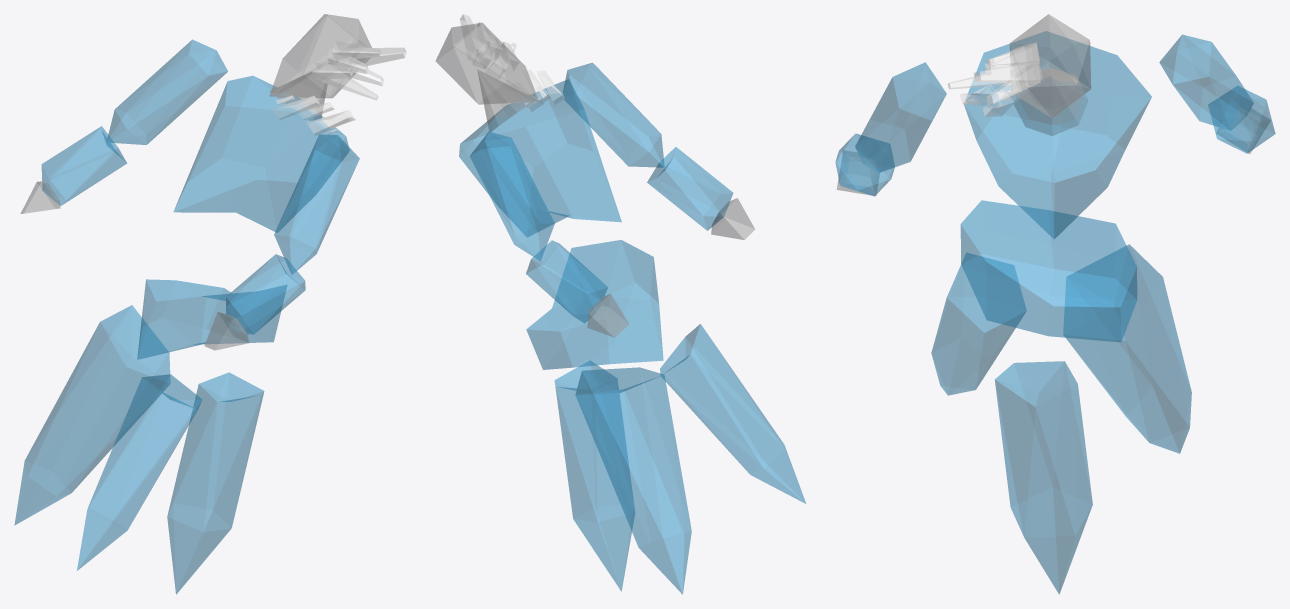
The model's file is ghostChargingLunge16.obj.
3 views of the same model, side by side, from view 1: azimuth 30°, elevation 25°; view 2: azimuth 150°, elevation 25°; view 3: azimuth 270°, elevation 25° (orthographic). The views are drawn at different scales.
Parts seen in each view (by area): view 1: Cube.001_Cube.006, Icosphere.017, Icosphere.016, Icosphere.015, Cube_Cube.006, Icosphere.007_Icosphere.005, Icosphere.005_Icosphere.005, Icosphere.003_Icosphere.006, Icosphere.006_Icosphere.005, Icosphere.008_Icosphere.005, Cone_Cone.006, Cube.002_Cube.006 (+8 smaller); view 2: Cube.001_Cube.006, Icosphere.017, Cube_Cube.006, Icosphere.016, Icosphere.015, Icosphere.005_Icosphere.005, Icosphere.007_Icosphere.005, Icosphere.003_Icosphere.006, Icosphere.006_Icosphere.005, Icosphere.008_Icosphere.005, Cone_Cone.006, Cube.002_Cube.006 (+2 smaller); view 3: Cube.001_Cube.006, Cube_Cube.006, Icosphere.017, Icosphere.016, Icosphere.015, Icosphere.003_Icosphere.006, Icosphere.005_Icosphere.005, Icosphere.007_Icosphere.005, Cone_Cone.006, Icosphere.008_Icosphere.005, Icosphere.006_Icosphere.005, Cube.002_Cube.006 (+5 smaller).
Boxes of the visible parts, left/top/right/bottom form: Cube.001_Cube.006: left=173, top=75, right=349, bottom=232; Icosphere.017: left=14, top=305, right=170, bottom=525; Icosphere.016: left=167, top=372, right=264, bottom=594; Icosphere.015: left=77, top=374, right=202, bottom=570; Cube_Cube.006: left=137, top=279, right=286, bottom=359; Icosphere.007_Icosphere.005: left=107, top=39, right=227, bottom=144; Icosphere.005_Icosphere.005: left=274, top=134, right=359, bottom=274; Icosphere.003_Icosphere.006: left=269, top=14, right=371, bottom=98; Icosphere.006_Icosphere.005: left=226, top=254, right=305, bottom=334; Icosphere.008_Icosphere.005: left=41, top=126, right=126, bottom=205; Cone_Cone.006: left=270, top=63, right=329, bottom=120; Cube.002_Cube.006: left=204, top=312, right=249, bottom=350; Cube.001_Cube.006: left=459, top=79, right=621, bottom=236; Icosphere.017: left=575, top=367, right=691, bottom=594; Cube_Cube.006: left=526, top=240, right=663, bottom=369; Icosphere.016: left=554, top=361, right=634, bottom=591; Icosphere.015: left=660, top=324, right=805, bottom=503; Icosphere.005_Icosphere.005: left=563, top=62, right=664, bottom=167; Icosphere.007_Icosphere.005: left=470, top=131, right=554, bottom=260; Icosphere.003_Icosphere.006: left=435, top=22, right=538, bottom=104; Icosphere.006_Icosphere.005: left=647, top=147, right=733, bottom=230; Icosphere.008_Icosphere.005: left=526, top=240, right=607, bottom=323; Cone_Cone.006: left=477, top=69, right=533, bottom=131; Cube.002_Cube.006: left=711, top=198, right=754, bottom=239; Cube.001_Cube.006: left=964, top=31, right=1151, bottom=239; Cube_Cube.006: left=960, top=200, right=1137, bottom=342; Icosphere.017: left=1063, top=244, right=1191, bottom=453; Icosphere.016: left=995, top=361, right=1092, bottom=594; Icosphere.015: left=931, top=253, right=1026, bottom=395; Icosphere.003_Icosphere.006: left=1009, top=14, right=1091, bottom=118; Icosphere.005_Icosphere.005: left=855, top=62, right=946, bottom=172; Icosphere.007_Icosphere.005: left=1159, top=34, right=1253, bottom=130; Cone_Cone.006: left=1013, top=68, right=1088, bottom=135; Icosphere.008_Icosphere.005: left=1208, top=86, right=1275, bottom=153; Icosphere.006_Icosphere.005: left=835, top=133, right=894, bottom=196; Cube.002_Cube.006: left=836, top=150, right=879, bottom=196.
Size of the model in its own units: 31.33 by 47.69 by 28.45.
